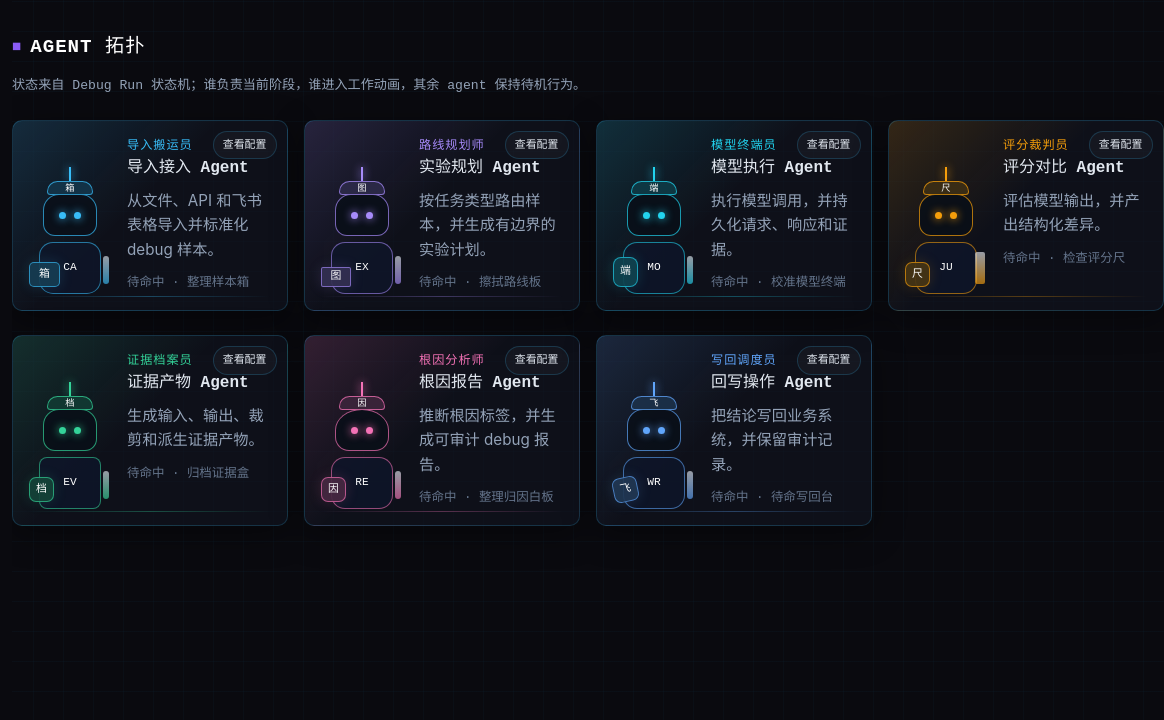
AgentTopologyPanel › opens the configuration drawer for 模型执行 Agent
Click the button "查看配置" next to "模型终端员".
click(829, 145)  # box [797,131,861,159]
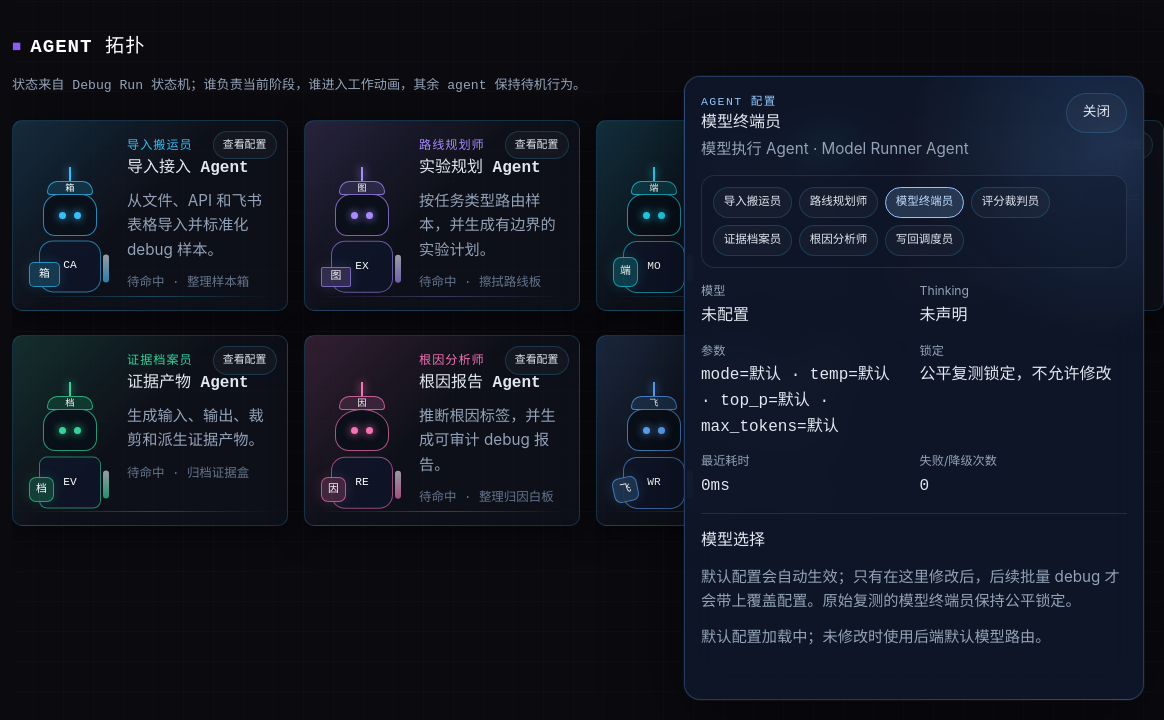
Result: the element named "Agent 配置抽屉" is shown at [684,76,1144,700]
Result: the heading "模型终端员" is shown at [701,114,781,132]
Result: the text "模型执行 Agent · Model Runner Agent" is shown at [701,137,969,161]
